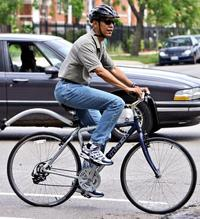person: (54, 4, 149, 200)
